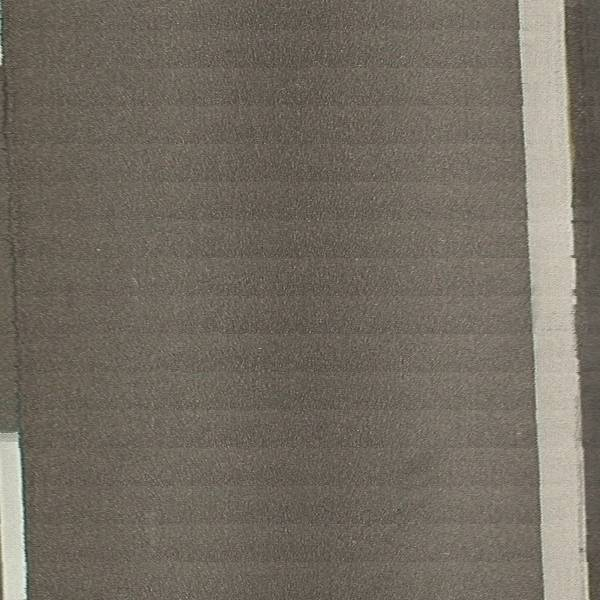road_damage: (2, 157, 32, 426)
